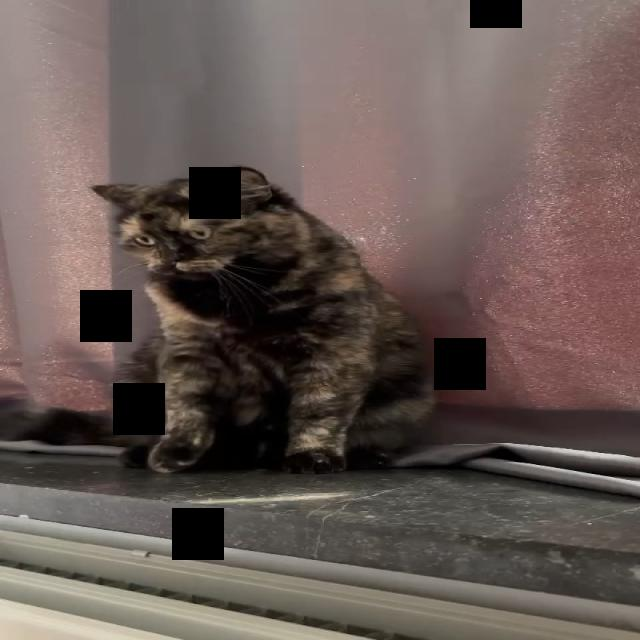authorized: (87, 164, 436, 474)
